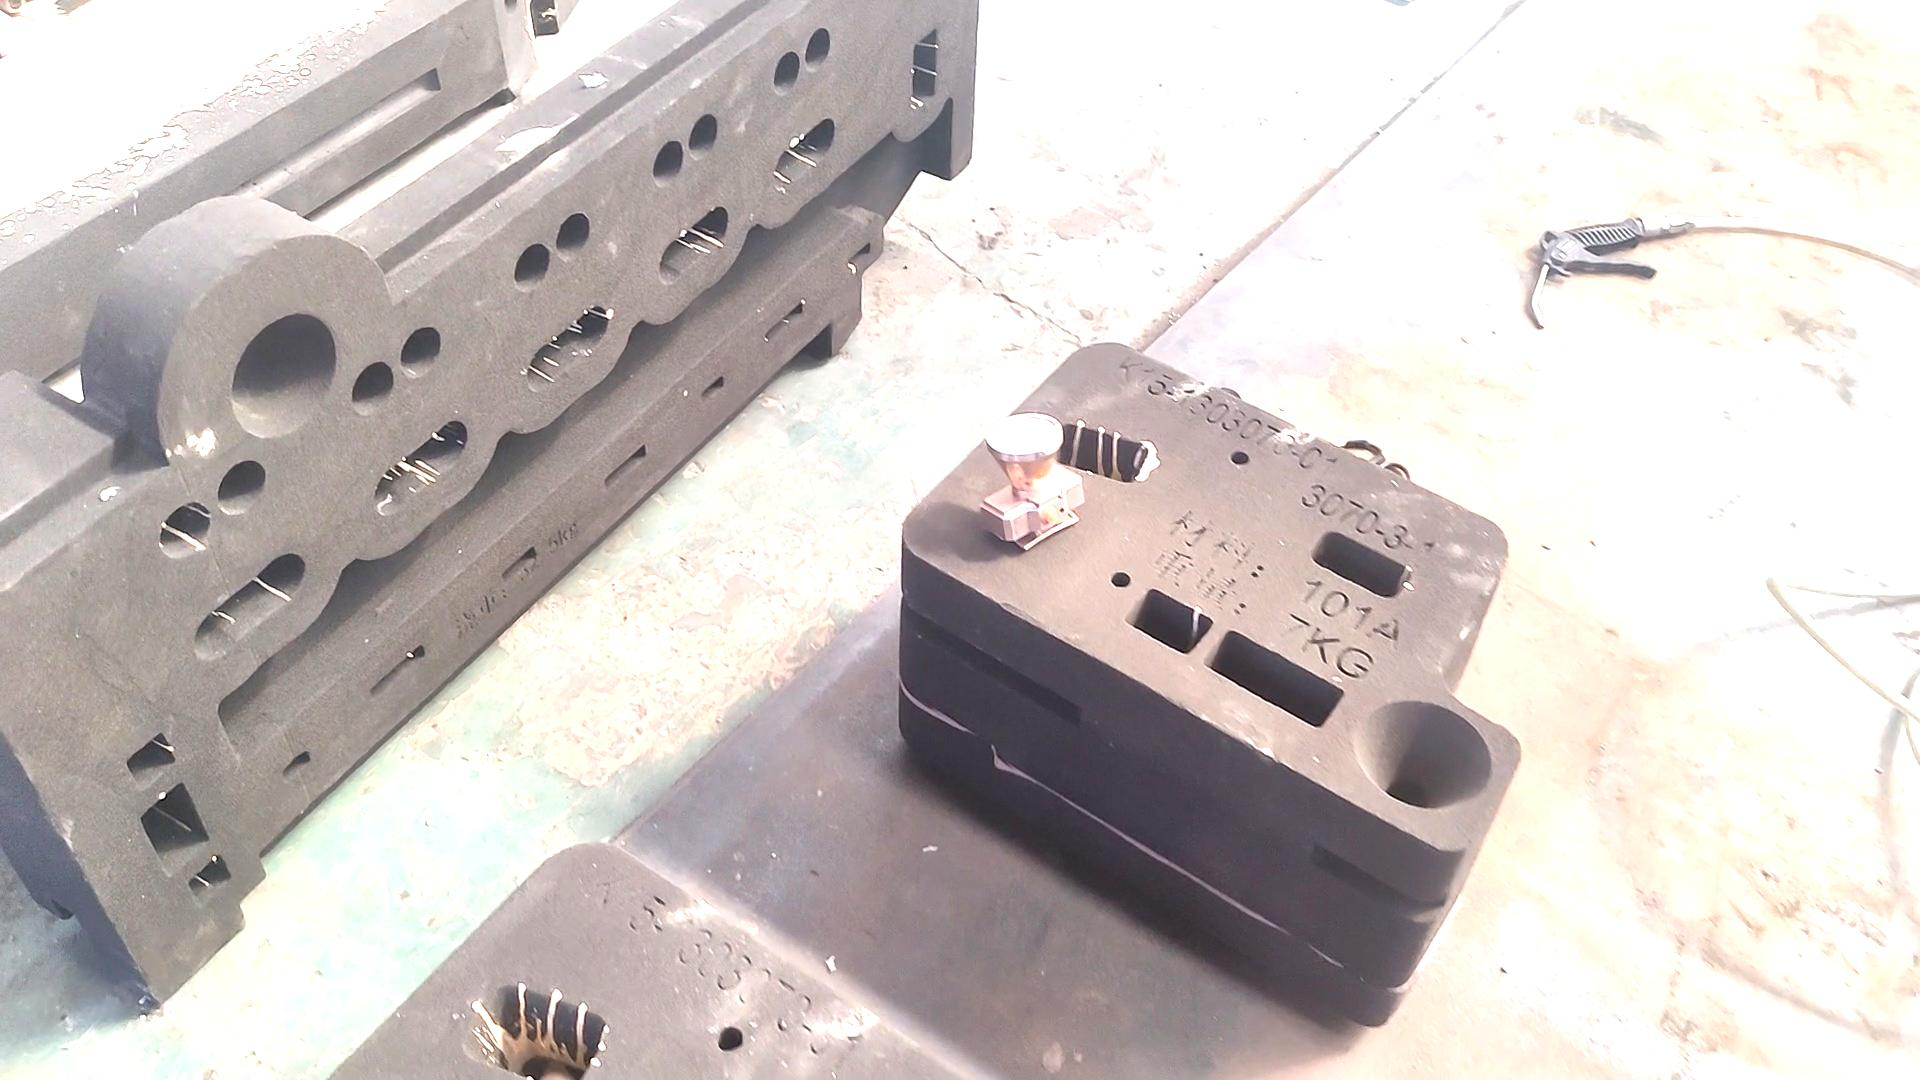pouring hole: (1353, 699, 1495, 811), (229, 314, 339, 440)
